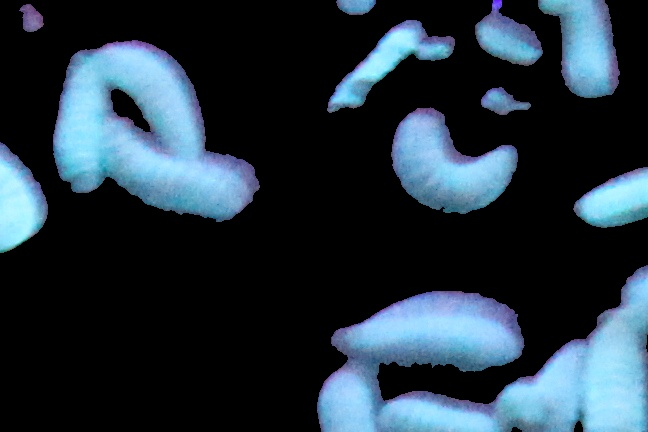larvae: (104, 123, 250, 221), (391, 111, 513, 215), (324, 310, 520, 372), (90, 39, 201, 148), (537, 1, 622, 99), (51, 54, 107, 195), (583, 317, 648, 432), (381, 384, 498, 432), (1, 138, 47, 256), (568, 168, 648, 234), (310, 370, 383, 432)
